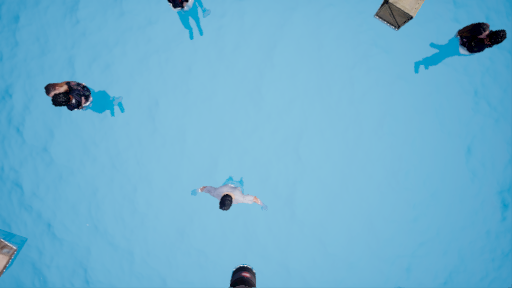person: (413, 18, 507, 73), (43, 79, 127, 122), (192, 177, 265, 212)
